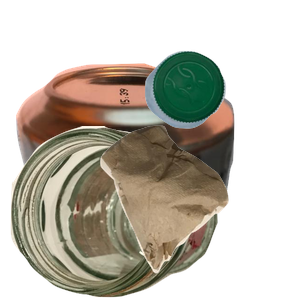glass: (10, 126, 220, 300)
metal: (13, 61, 240, 241)
plastic: (142, 48, 300, 169)
trash: (98, 123, 300, 300)
